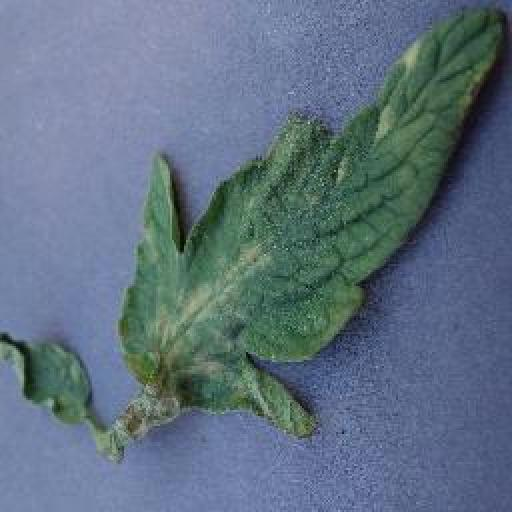disease_tomato: (119, 2, 503, 436)
